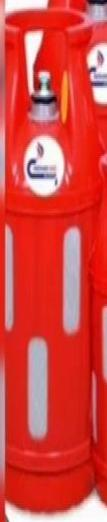cylinder: (1, 1, 107, 522)
